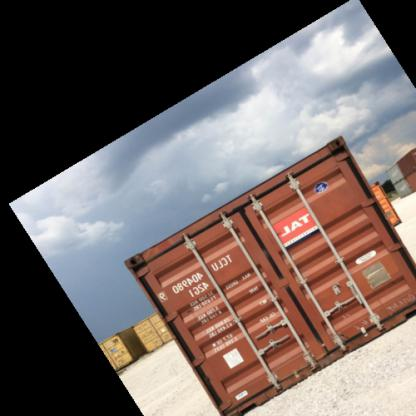Damage: (311, 337, 339, 359)
